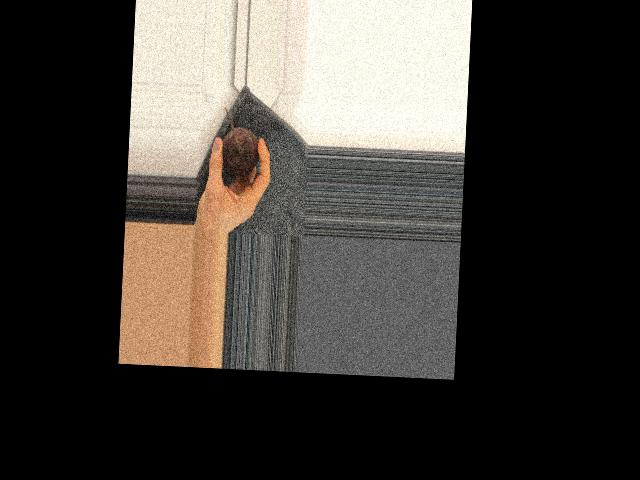beet: (220, 106, 261, 176)
